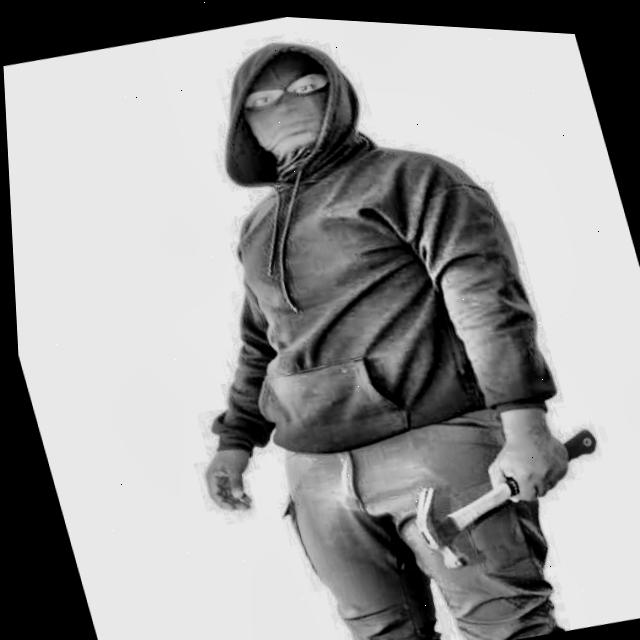robbery: (181, 37, 573, 640)
